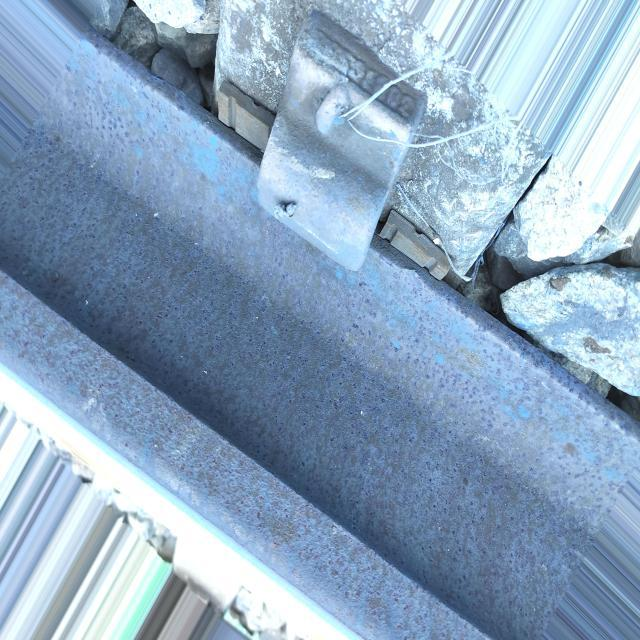Missing Fastener: (220, 9, 473, 278)
